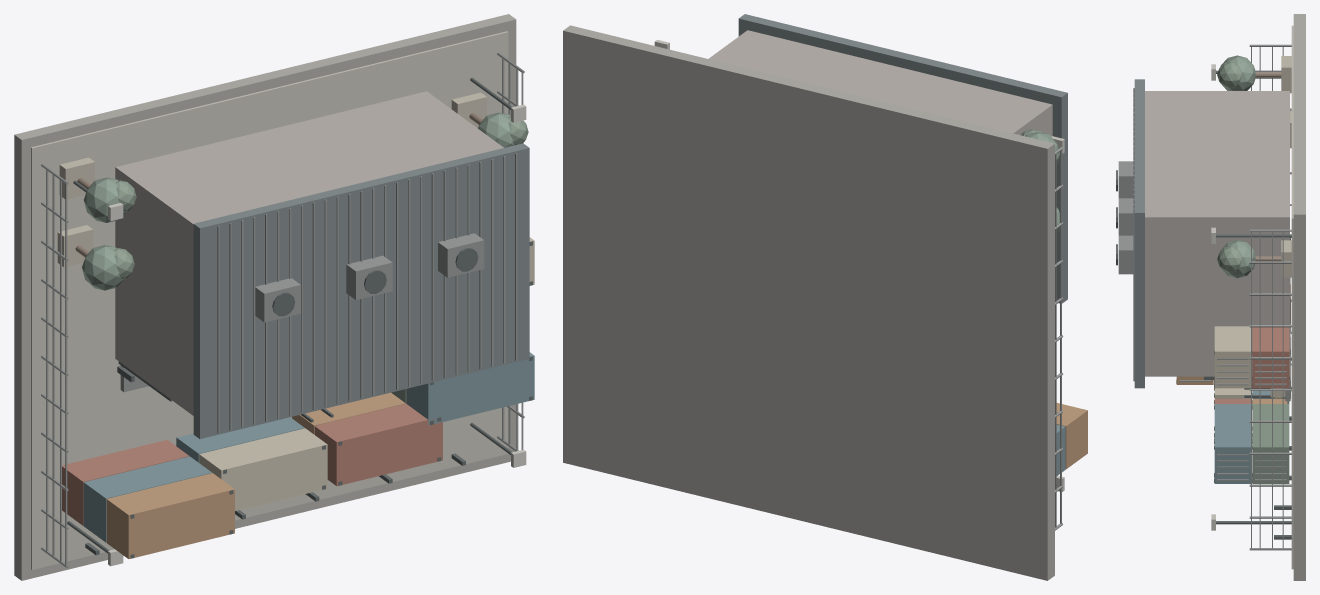
File: container-warehouse.glb
The picture shows the model from 3 angles, left to right: view 1: azimuth 30°, elevation 25°; view 2: azimuth 150°, elevation 25°; view 3: azimuth 270°, elevation 25°; orthographic projection. The views are drawn at different scales.
Parts seen in each view (by area): view 1: 0003_roof, 0001_yard_paving, 0002_warehouse_body, 0000_foundation, 0180_container_2_body, 0280_container_6_body, 0230_container_4_body, 0330_container_8_body, 0155_container_1_body, 0130_container_0_body, 0205_container_3_body, 0255_container_5_body (+13 smaller); view 2: 0000_foundation, 0002_warehouse_body, 0003_roof, 0180_container_2_body, 0460_fence_rail, 0461_fence_rail; view 3: 0002_warehouse_body, 0000_foundation, 0003_roof, 0330_container_8_body, 0305_container_7_body, 0380_container_10_body, 0355_container_9_body, 0001_yard_paving, 0128_vent_unit, 0491_tree_canopy, 0495_tree_canopy, 0473_fence_rail (+14 smaller).
Boxes of the visible parts, bbox=[...] form: 0003_roof: bbox=[193, 143, 529, 438]; 0001_yard_paving: bbox=[31, 31, 508, 569]; 0002_warehouse_body: bbox=[115, 91, 503, 415]; 0000_foundation: bbox=[14, 14, 516, 580]; 0180_container_2_body: bbox=[106, 473, 234, 558]; 0280_container_6_body: bbox=[314, 404, 442, 486]; 0230_container_4_body: bbox=[199, 428, 327, 510]; 0330_container_8_body: bbox=[406, 352, 534, 425]; 0155_container_1_body: bbox=[83, 456, 211, 542]; 0130_container_0_body: bbox=[62, 440, 189, 525]; 0205_container_3_body: bbox=[176, 417, 304, 462]; 0255_container_5_body: bbox=[292, 392, 406, 434]; 0000_foundation: bbox=[563, 25, 1054, 580]; 0002_warehouse_body: bbox=[708, 30, 1052, 136]; 0003_roof: bbox=[738, 14, 1067, 303]; 0180_container_2_body: bbox=[1056, 403, 1087, 469]; 0460_fence_rail: bbox=[1055, 154, 1056, 527]; 0461_fence_rail: bbox=[1060, 150, 1061, 523]; 0002_warehouse_body: bbox=[1145, 91, 1289, 376]; 0000_foundation: bbox=[1293, 14, 1305, 580]; 0003_roof: bbox=[1134, 79, 1144, 388]; 0330_container_8_body: bbox=[1214, 404, 1250, 483]; 0305_container_7_body: bbox=[1252, 404, 1289, 483]; 0380_container_10_body: bbox=[1214, 326, 1250, 388]; 0355_container_9_body: bbox=[1252, 327, 1289, 388]; 0001_yard_paving: bbox=[1291, 25, 1293, 569]; 0128_vent_unit: bbox=[1118, 235, 1133, 274]; 0491_tree_canopy: bbox=[1220, 240, 1255, 278]; 0495_tree_canopy: bbox=[1220, 55, 1255, 90]; 0473_fence_rail: bbox=[1282, 231, 1283, 548].
Bounding box in the file's own units: 27 × 23 × 10.8.
